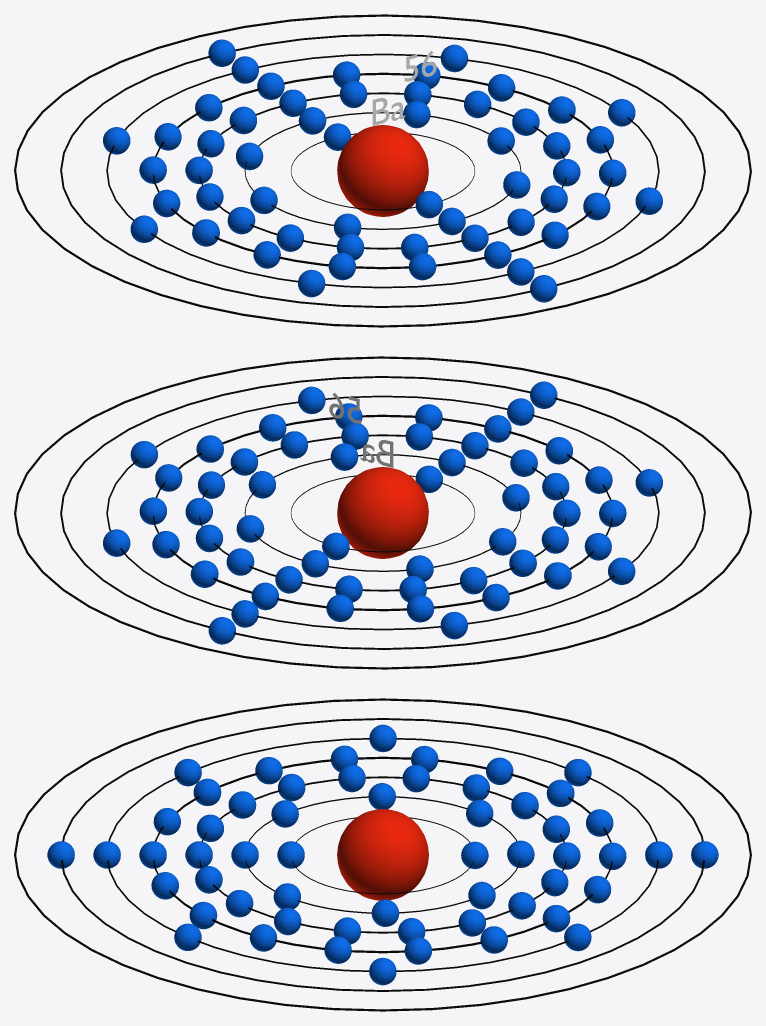
The picture shows the model from 3 angles, top to bottom: view 1: azimuth 30°, elevation 25°; view 2: azimuth 150°, elevation 25°; view 3: azimuth 270°, elevation 25°; orthographic projection.
Parts seen in each view (by area): view 1: Ba3, Ba4, Proton, Ba5, Ba2, n7, n6, n5, n4, Ba6, Ba1, n3 (+1 smaller); view 2: Ba3, Ba4, Proton, Ba5, Ba2, n7, n6, n5, n4, Ba6, Ba1, n3 (+1 smaller); view 3: Ba3, Ba4, Proton, Ba5, Ba2, n7, n6, n5, n4, Ba1, Ba6, n3 (+2 smaller).
Boxes of the visible parts, x1,y1,x2,y2 form: Ba3: (185, 80, 580, 260); Ba4: (139, 61, 626, 280); Proton: (337, 125, 428, 216); Ba5: (103, 44, 662, 297); Ba2: (236, 100, 530, 238); n7: (14, 14, 751, 327); n6: (60, 34, 705, 307); n5: (106, 53, 659, 288); n4: (153, 72, 612, 269); Ba6: (208, 39, 557, 302); Ba1: (323, 123, 442, 218); n3: (199, 92, 566, 249); Ba3: (185, 422, 580, 602); Ba4: (139, 403, 626, 622); Proton: (337, 467, 428, 558); Ba5: (103, 386, 662, 639); Ba2: (236, 443, 529, 581); n7: (14, 356, 751, 669); n6: (60, 376, 705, 649); n5: (106, 395, 659, 630); n4: (153, 414, 612, 611); Ba6: (208, 381, 557, 644); Ba1: (322, 465, 442, 560); n3: (199, 434, 566, 591); Ba3: (185, 764, 580, 944); Ba4: (139, 745, 626, 964); Proton: (337, 809, 428, 900); Ba5: (93, 724, 672, 985); Ba2: (231, 783, 534, 926); n7: (14, 698, 751, 1011); n6: (61, 718, 704, 991); n5: (107, 738, 658, 971); n4: (153, 756, 612, 953); Ba1: (277, 841, 488, 869); Ba6: (47, 841, 718, 868); n3: (199, 776, 566, 933).
Size of the model in its own units: 802 by 180 by 802.
